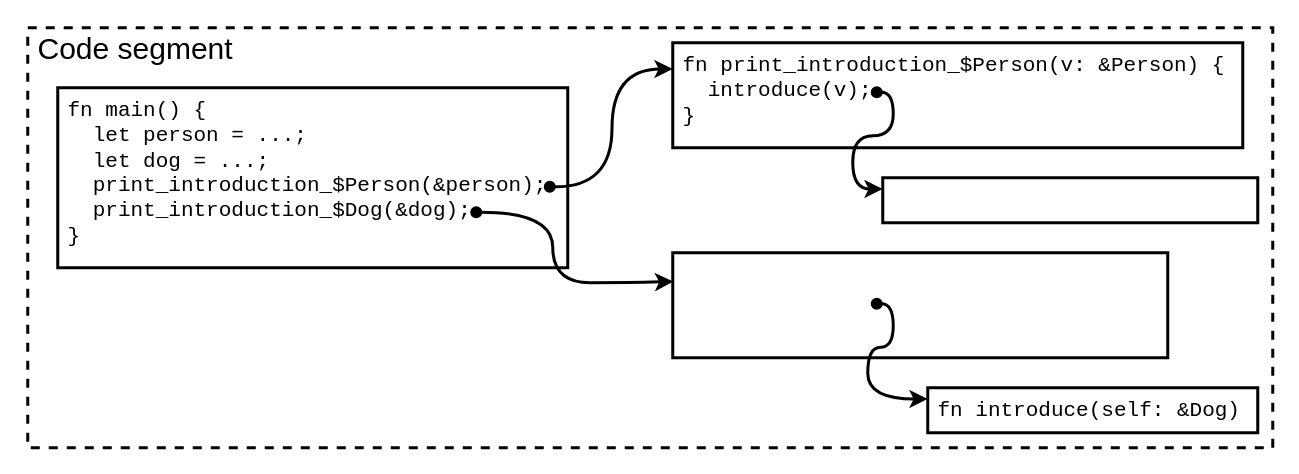
Some shapes in this 1299 by 474 pixel diagram are drawn without their labels. Each missing label, with the box of its shape:
fn introduce(self: &Person): (880, 176, 1258, 224)
fn print_introduction_$Dog(v: &Dog) { introduce(v); }: (670, 250, 1168, 358)
